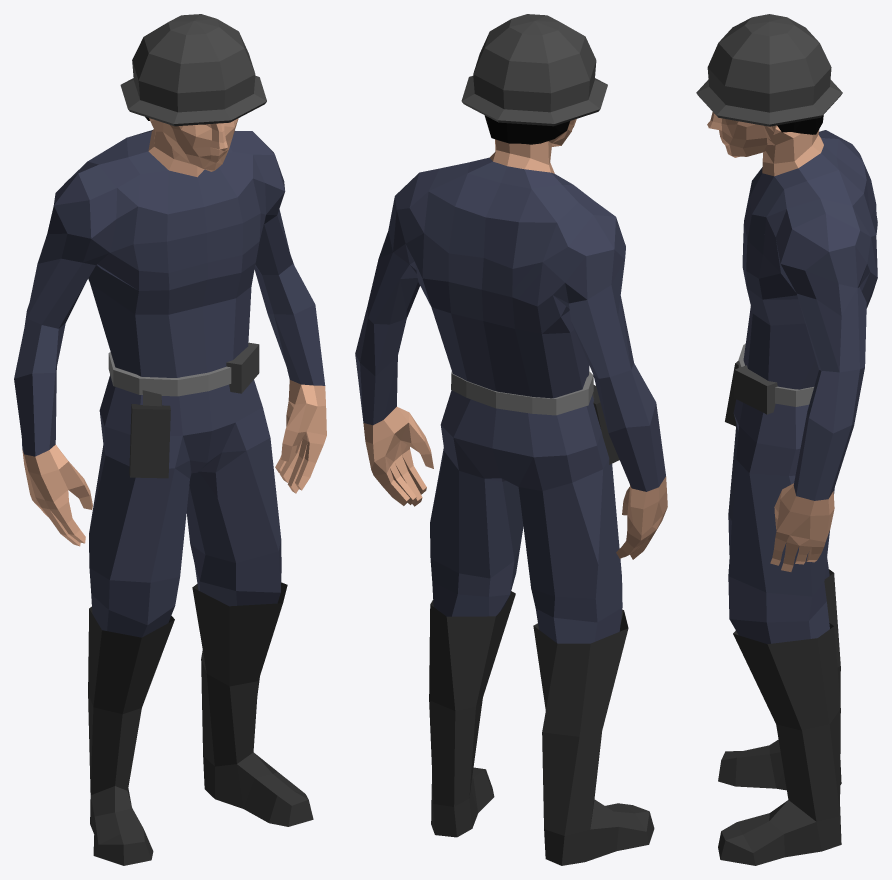
The model's file is Human_Soldier_3.FBX.
3 renders of one model, left to right at view 1: azimuth 30°, elevation 25°; view 2: azimuth 150°, elevation 25°; view 3: azimuth 270°, elevation 25°, orthographic.
Parts seen in each view (by area): view 1: Human_Soldier_3; view 2: Human_Soldier_3; view 3: Human_Soldier_3.
Part boxes in pixels (bbox=[...]): Human_Soldier_3: bbox=[14, 14, 326, 865]; Human_Soldier_3: bbox=[355, 14, 667, 865]; Human_Soldier_3: bbox=[696, 14, 877, 865].
Bounding box in the file's own units: 0.613 × 1.59 × 0.3314.
Materials: 1 (1 with a texture image).
